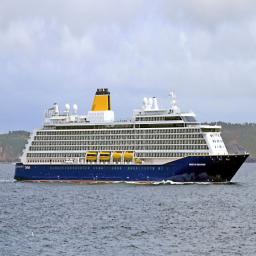cruises: (14, 88, 251, 188)
